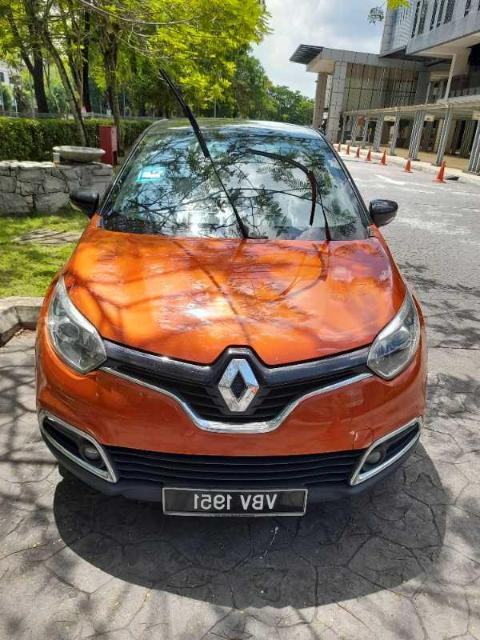License_Plate: (161, 487, 309, 519)
car: (34, 115, 430, 519)
